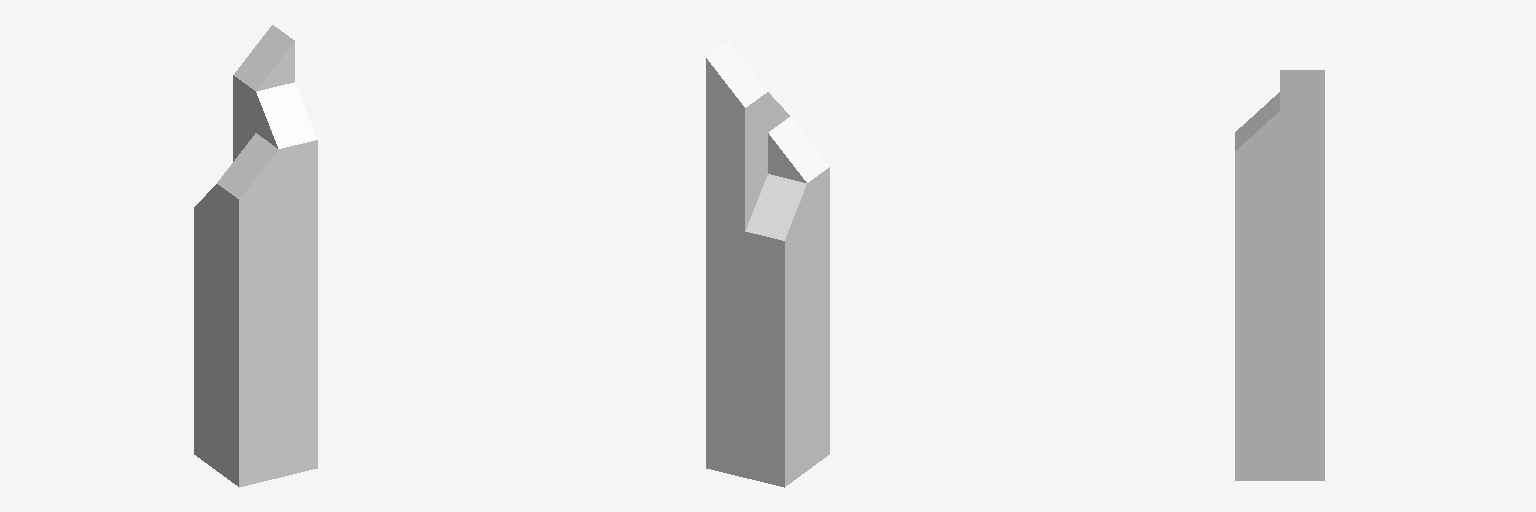
File: column-damaged.obj
3 renders of one model, left to right at view 1: azimuth 30°, elevation 25°; view 2: azimuth 150°, elevation 25°; view 3: azimuth 270°, elevation 25°, orthographic.
Parts seen in each view (by area): view 1: column-damaged; view 2: column-damaged; view 3: column-damaged.
Boxes of the visible parts, box(x1,y1,x2,y2) form: column-damaged: box(194, 25, 317, 487); column-damaged: box(706, 41, 829, 487); column-damaged: box(1235, 70, 1324, 480).
Bounding box in the file's own units: 0.2 × 1 × 0.2.